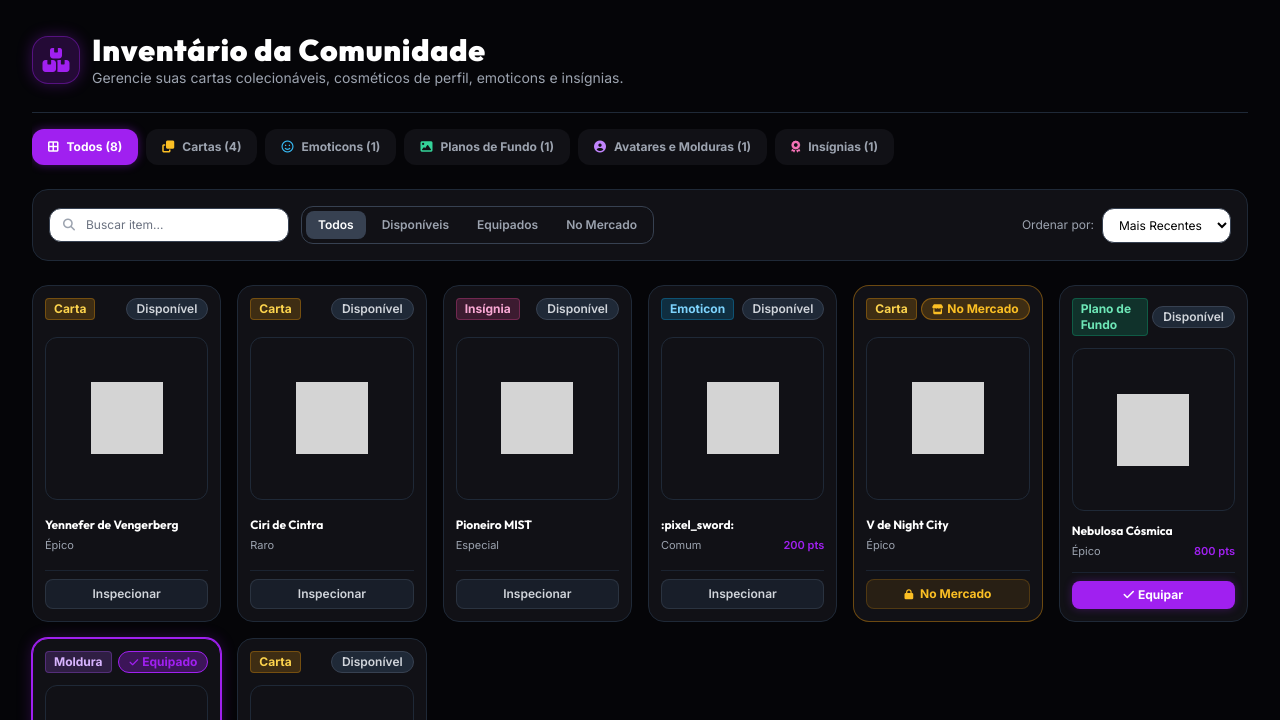
Scenario: Inventory Component › equipa um item disponível com sucesso via inventoryApi.equipItem
Click the button with test id "btn-equip-3". click: (1153, 595)
box: 1072,581 -> 1235,609
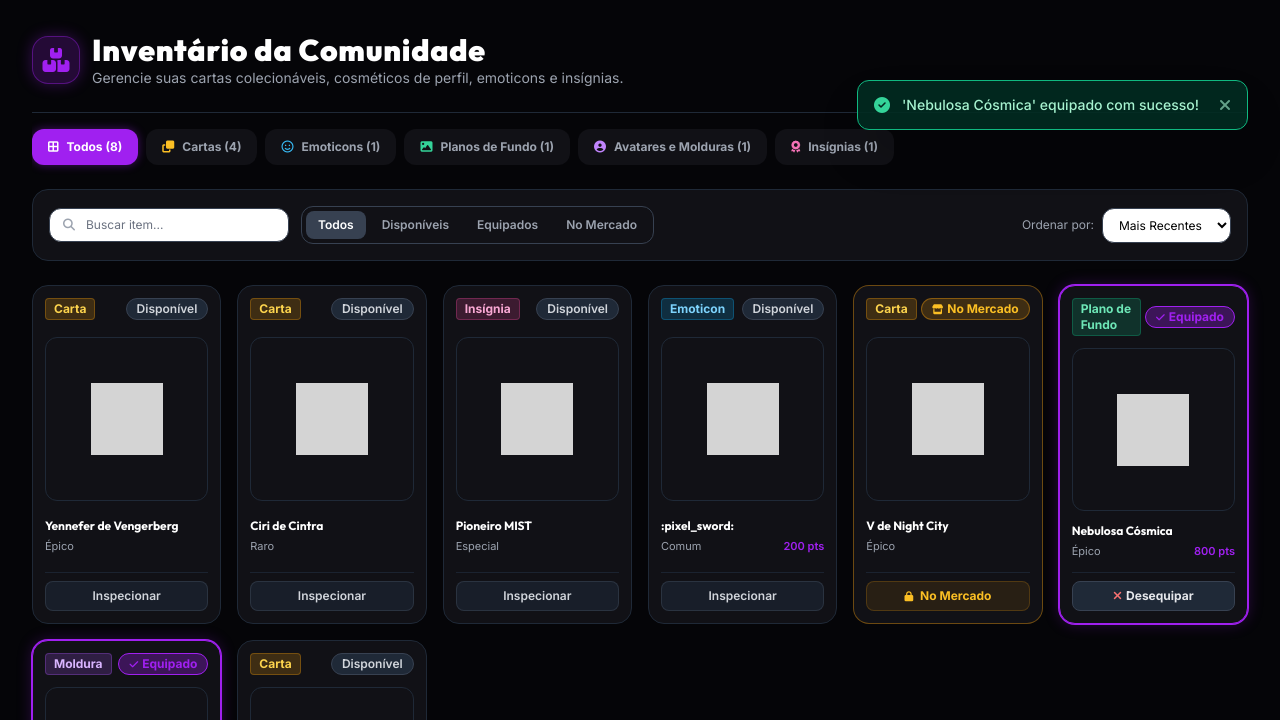
Expected: the element with test id "inventory-toast" is shown, 857,80 -> 1248,130
Expected: the text "'Nebulosa Cósmica' equipado com sucesso!" is shown, 902,95 -> 1199,115
